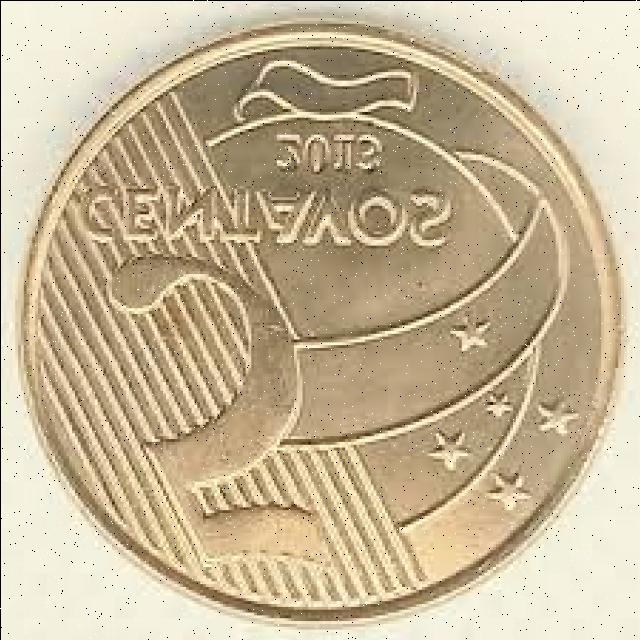5 cent: (16, 24, 622, 626)
